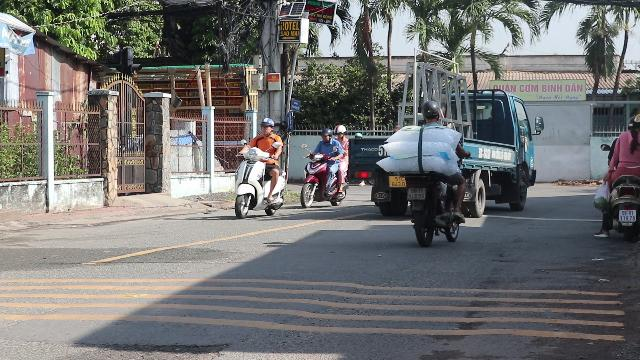helmet: (420, 99, 440, 121), (259, 118, 275, 136), (627, 111, 639, 131)
licenseplate: (408, 188, 426, 199), (620, 210, 636, 221)
motorcyclist: (370, 98, 468, 246), (592, 110, 640, 240), (232, 117, 288, 219)
